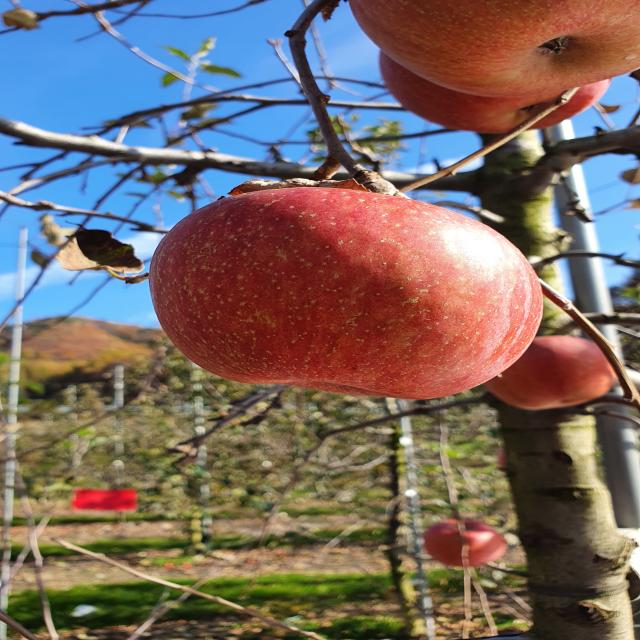fresh: (137, 182, 559, 410)
